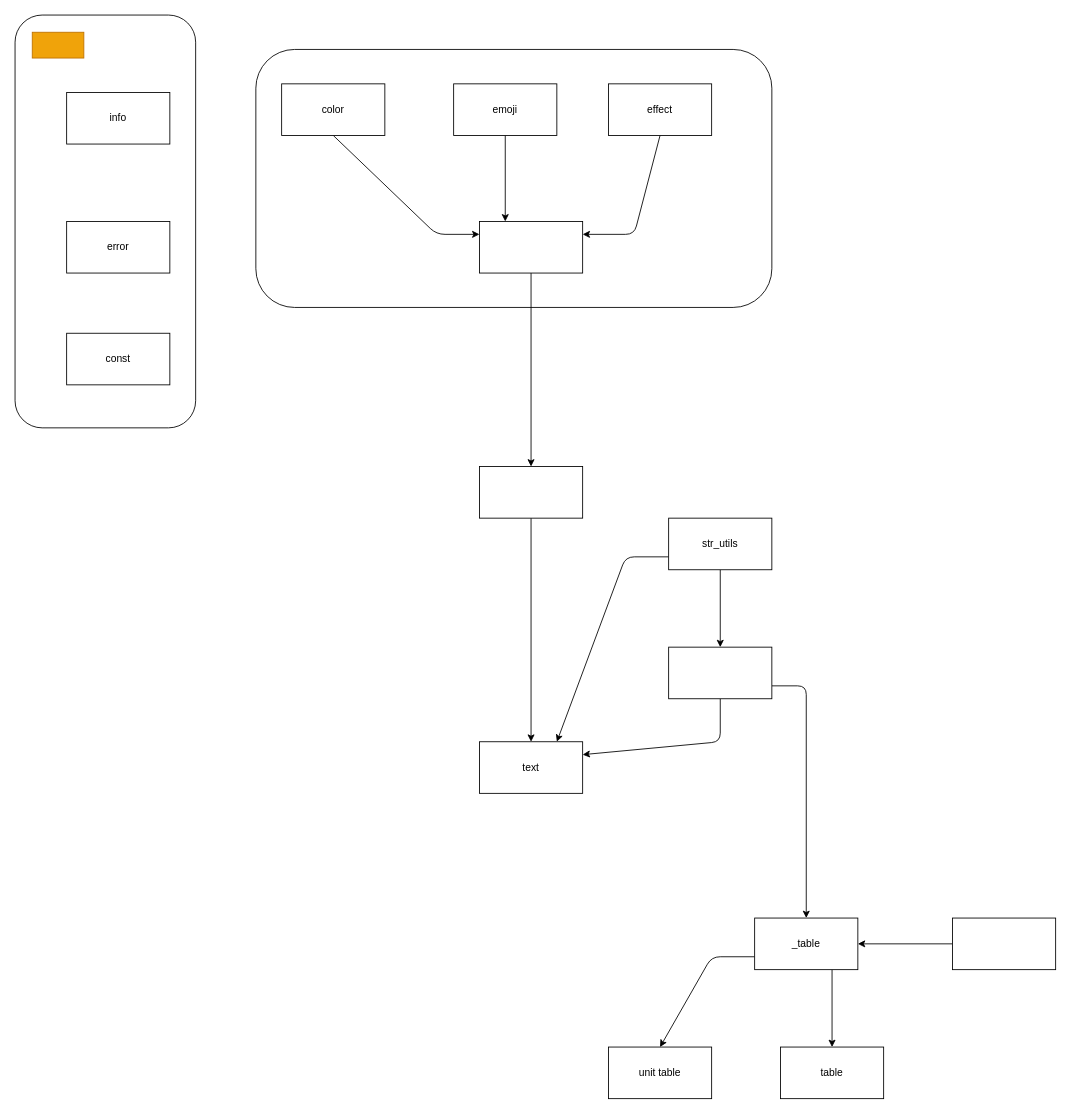
Some shapes in this 1071 by 1114 pixel diagram are drawn without their labels. The shapes that lost their labels are listed below. From the top down, each one's centre as x and y in pixels, then its label:
point (57, 44): common module
point (531, 247): style
point (531, 492): parse
point (720, 672): segment
point (1004, 943): box
